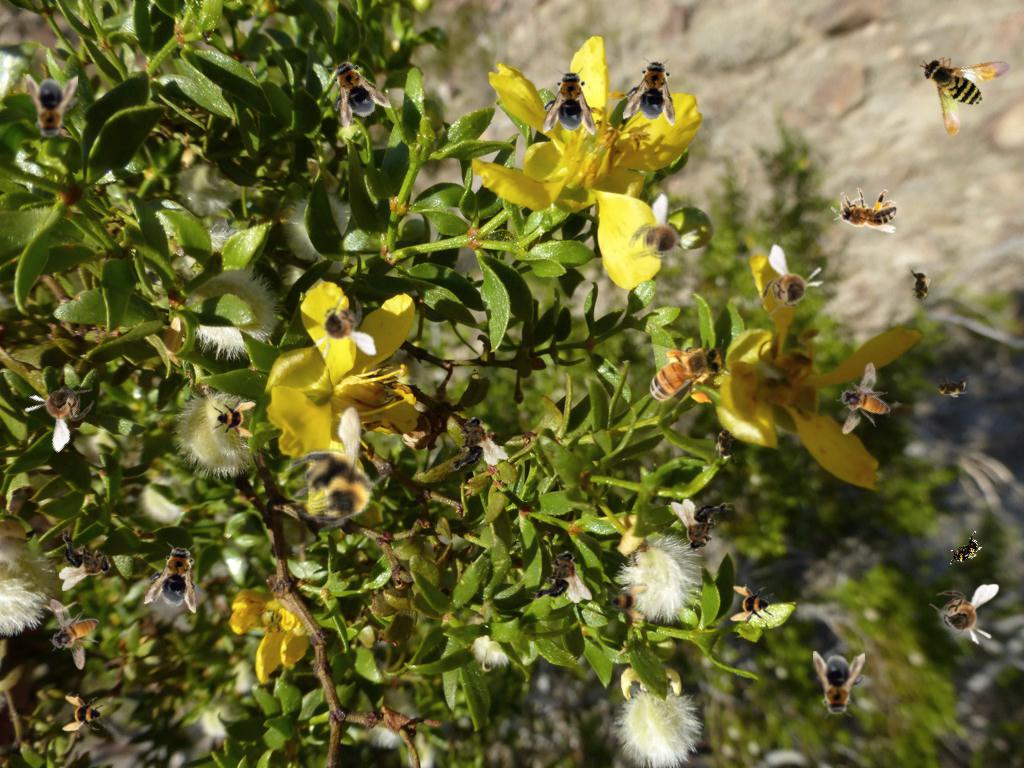Bee: (270, 399, 405, 538), (917, 35, 1024, 141), (617, 190, 710, 284), (14, 360, 107, 454), (820, 360, 906, 447), (750, 242, 831, 330), (313, 47, 393, 133), (637, 339, 730, 407), (303, 286, 378, 368), (437, 410, 510, 476), (144, 538, 206, 614), (622, 53, 682, 127), (929, 584, 999, 645), (49, 599, 99, 670), (543, 67, 595, 135), (26, 74, 78, 142), (813, 651, 865, 719), (59, 529, 112, 591), (671, 499, 733, 552), (530, 550, 592, 603), (831, 188, 897, 233), (730, 584, 774, 628), (212, 395, 256, 439), (605, 578, 649, 622), (62, 694, 106, 738), (942, 530, 988, 572), (930, 375, 972, 399), (715, 423, 737, 463), (881, 400, 921, 422), (909, 266, 931, 306)
